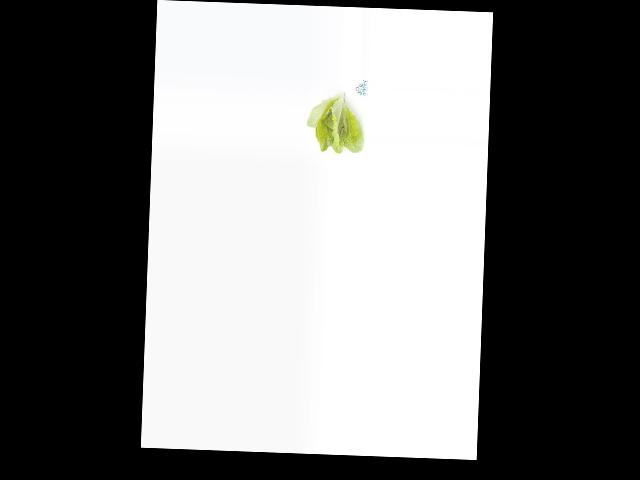lettuce: (304, 90, 364, 156)
